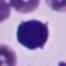D: (16, 18, 54, 50)
